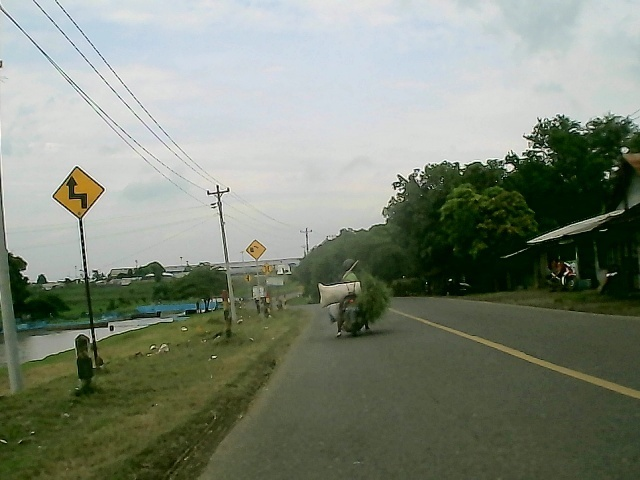Peringatan tepi air: (244, 240, 266, 261)
Tikungan garda pertama kiri: (52, 164, 106, 220)
